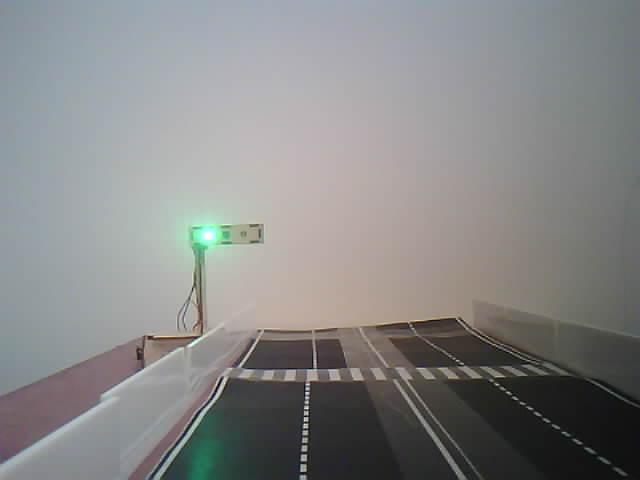crosswalk: (217, 364, 568, 379)
green: (183, 216, 268, 303)
